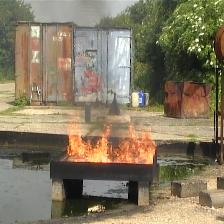fire: (67, 115, 156, 164)
